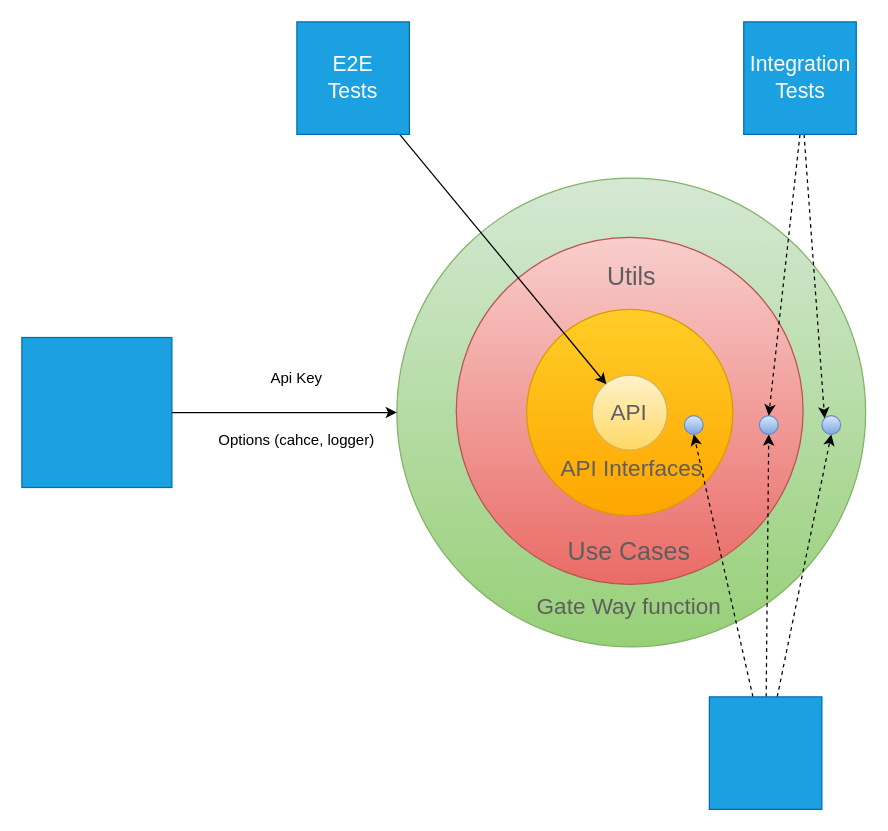
Image size: 888x831. Some labels were removed from this diagram. The shapes that lost their labels are listed below. From the top down, each one's centre as x and y in pixels, then its label:
the point at 96,412: Customers Node Server
the point at 765,752: Unit Tests
